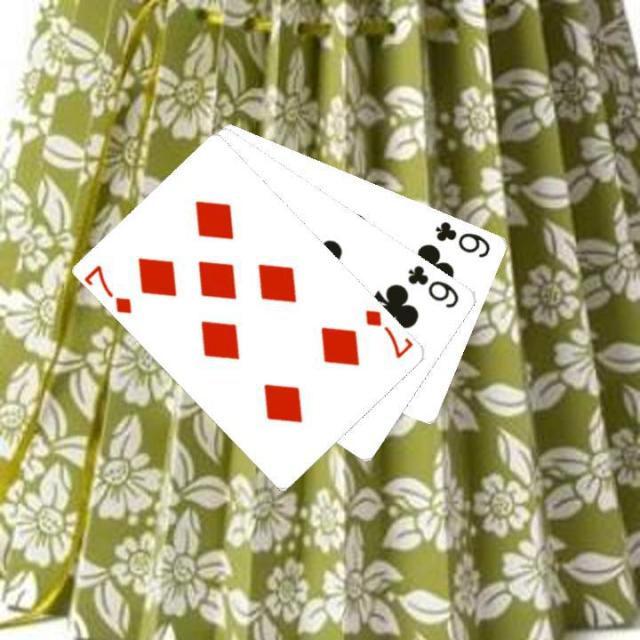6C: (404, 260, 462, 310), (432, 217, 492, 259)
7D: (362, 305, 414, 361), (83, 260, 135, 316)
